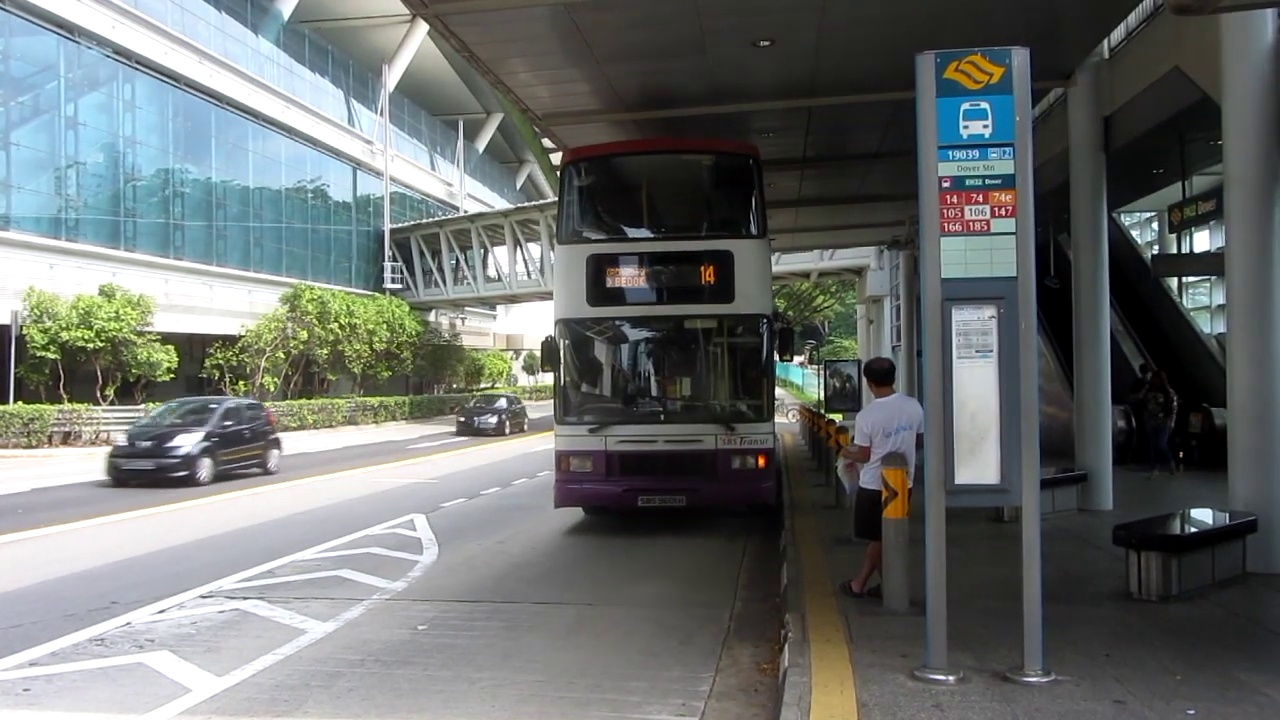bus panel: (602, 261, 721, 291)
